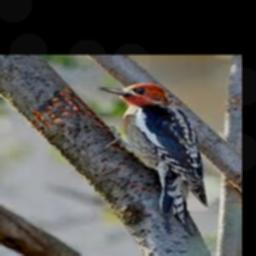Woodpecker: (98, 83, 208, 235)
